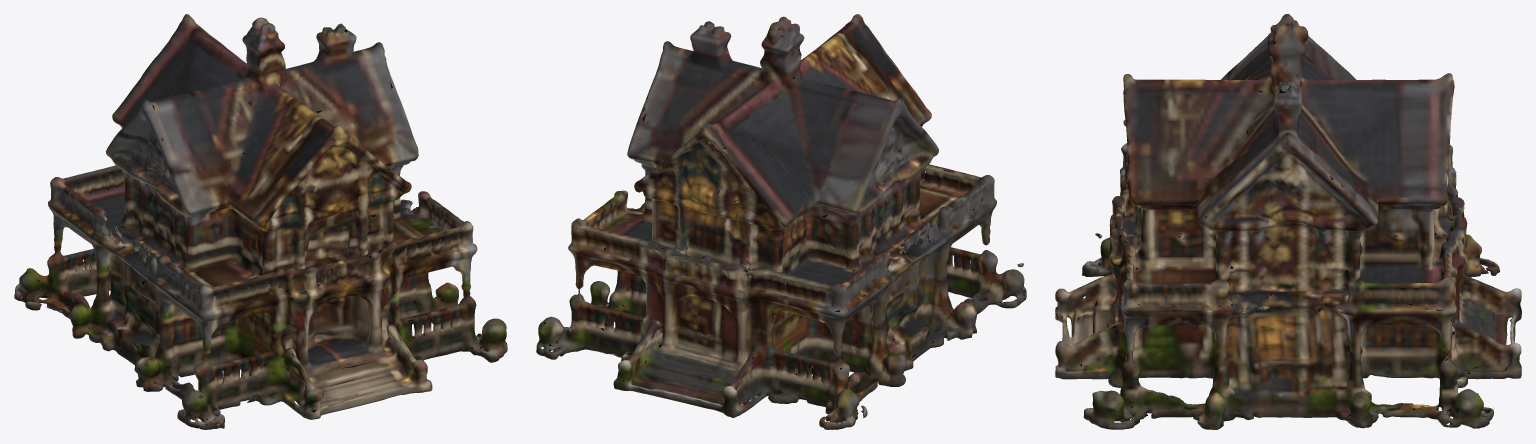
File: review-building-monkey-4147ed882633.glb
3 renders of one model, left to right at view 1: azimuth 30°, elevation 25°; view 2: azimuth 150°, elevation 25°; view 3: azimuth 270°, elevation 25°, orthographic. The views are drawn at different scales.
Parts seen in each view (by area): view 1: monkey | building material review; view 2: monkey | building material review; view 3: monkey | building material review.
Part boxes in pixels (box(x1,y1,x2,y2)): monkey | building material review: box(14, 14, 507, 429); monkey | building material review: box(536, 14, 1026, 429); monkey | building material review: box(1055, 14, 1521, 429).
Size of the model in its own units: 13.15 by 12 by 15.49.
Materials: 2 (1 with a texture image).
